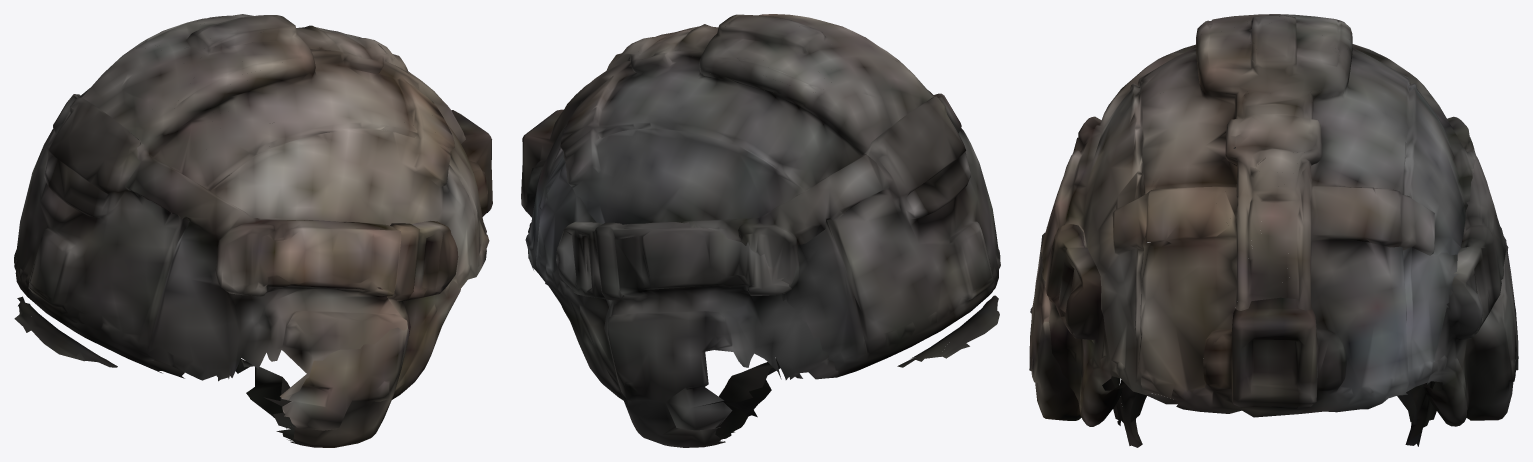
File: combat_helmet.ca3f3ef344.glb
3 renders of one model, left to right at view 1: azimuth 30°, elevation 25°; view 2: azimuth 150°, elevation 25°; view 3: azimuth 270°, elevation 25°, orthographic. The views are drawn at different scales.
Parts seen in each view (by area): view 1: combat_helmet_0, combat_helmet_2; view 2: combat_helmet_2, combat_helmet_0; view 3: combat_helmet_2, combat_helmet_0.
Boxes of the visible parts, x1,y1,x2,y2 form: combat_helmet_0: (14, 14, 489, 447); combat_helmet_2: (14, 15, 492, 373); combat_helmet_2: (521, 14, 1000, 447); combat_helmet_0: (617, 14, 999, 367); combat_helmet_2: (1121, 14, 1518, 446); combat_helmet_0: (1029, 14, 1352, 447).
Bounding box in the file's own units: 0.3 × 0.2252 × 0.2634.
1 material, 1 textured.
